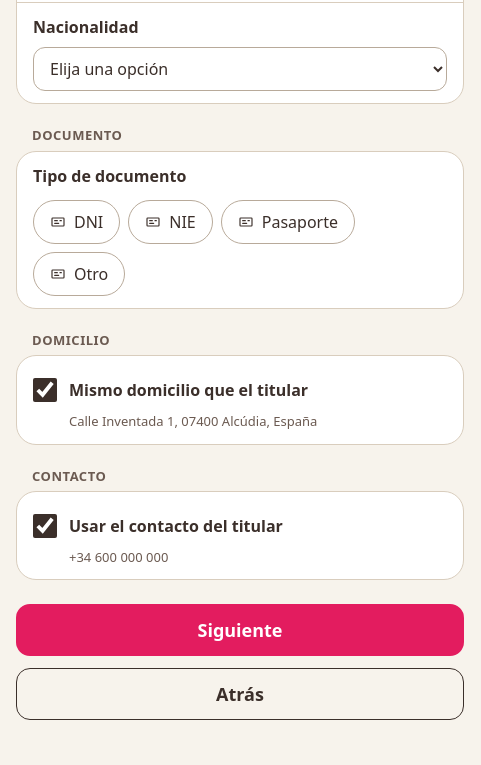
Scenario: Pantalla Acompañante › al desmarcar aparecen los campos
(page scrolled)
Click the checkbox labelled "Mismo domicilio que el titular" at (45, 390), box left=33, top=378, right=57, bottom=402
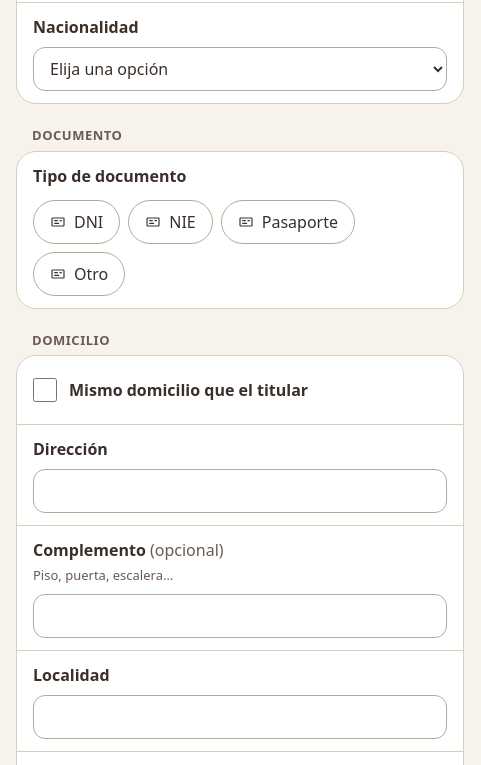
Check: the field with id "campo-address-street" is shown, box left=33, top=469, right=447, bottom=513
